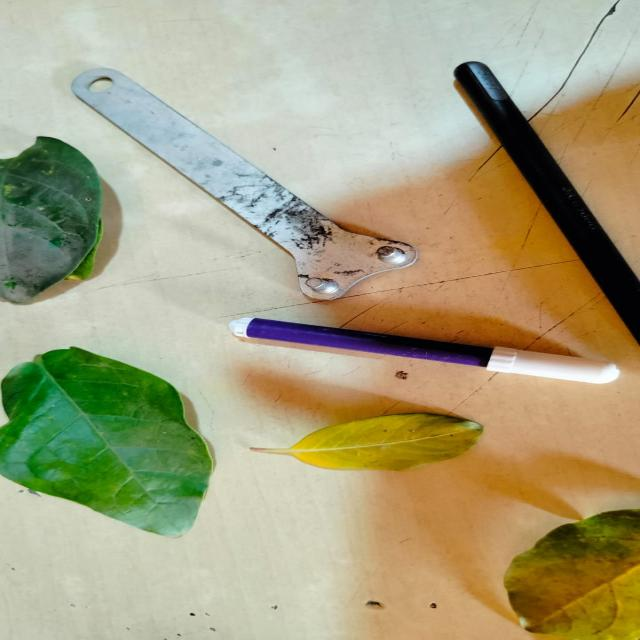Leaves: (1, 348, 215, 542), (0, 132, 104, 308), (502, 512, 640, 634), (251, 412, 485, 474)
Metal: (67, 67, 421, 300)
Pen: (451, 62, 640, 347), (228, 316, 619, 385)
